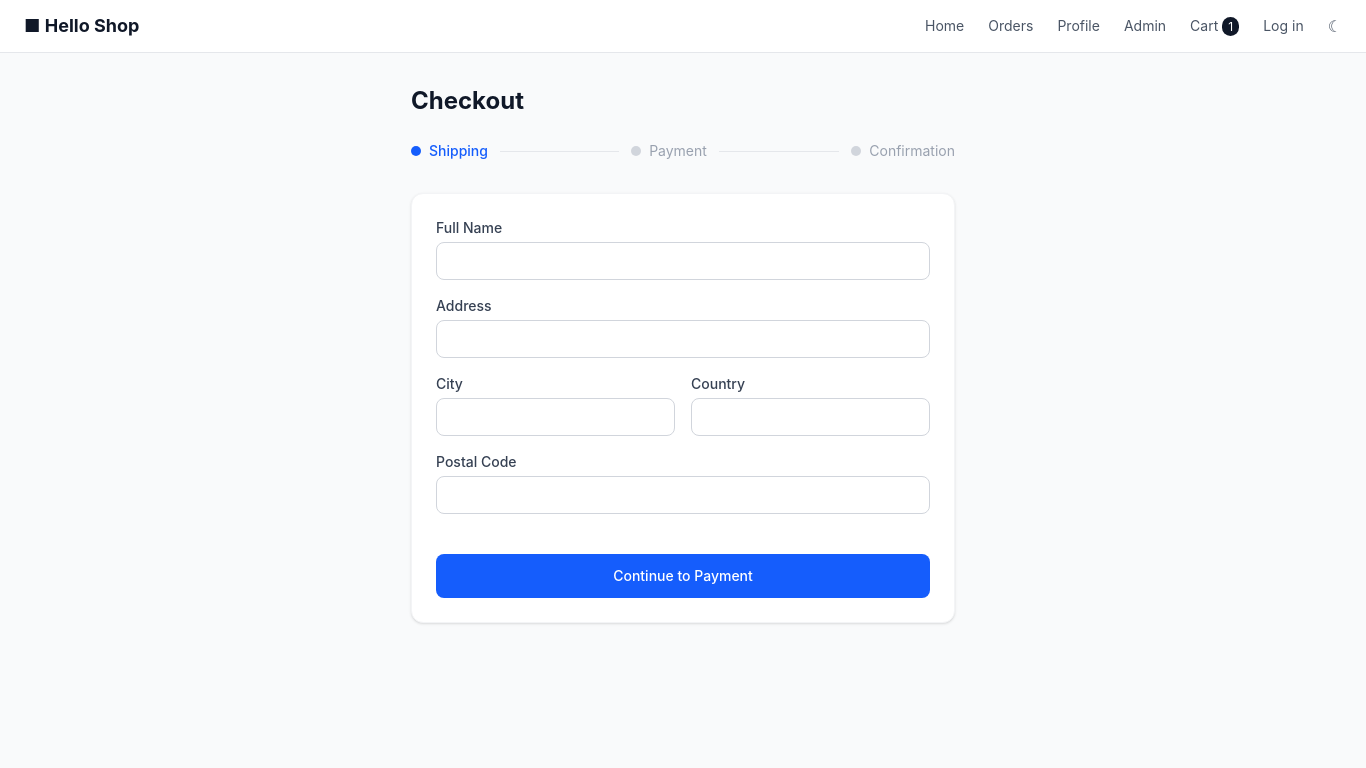
Test: Checkout flow › shows a postal code format error on blur
The width and height of the screenshot is (1366, 768).
expect the button "Continue to Payment" is shown: met, box left=436, top=554, right=930, bottom=598
Type "abc" into the field labelled "Postal Code" at coordinates (683, 495), box left=436, top=476, right=930, bottom=514
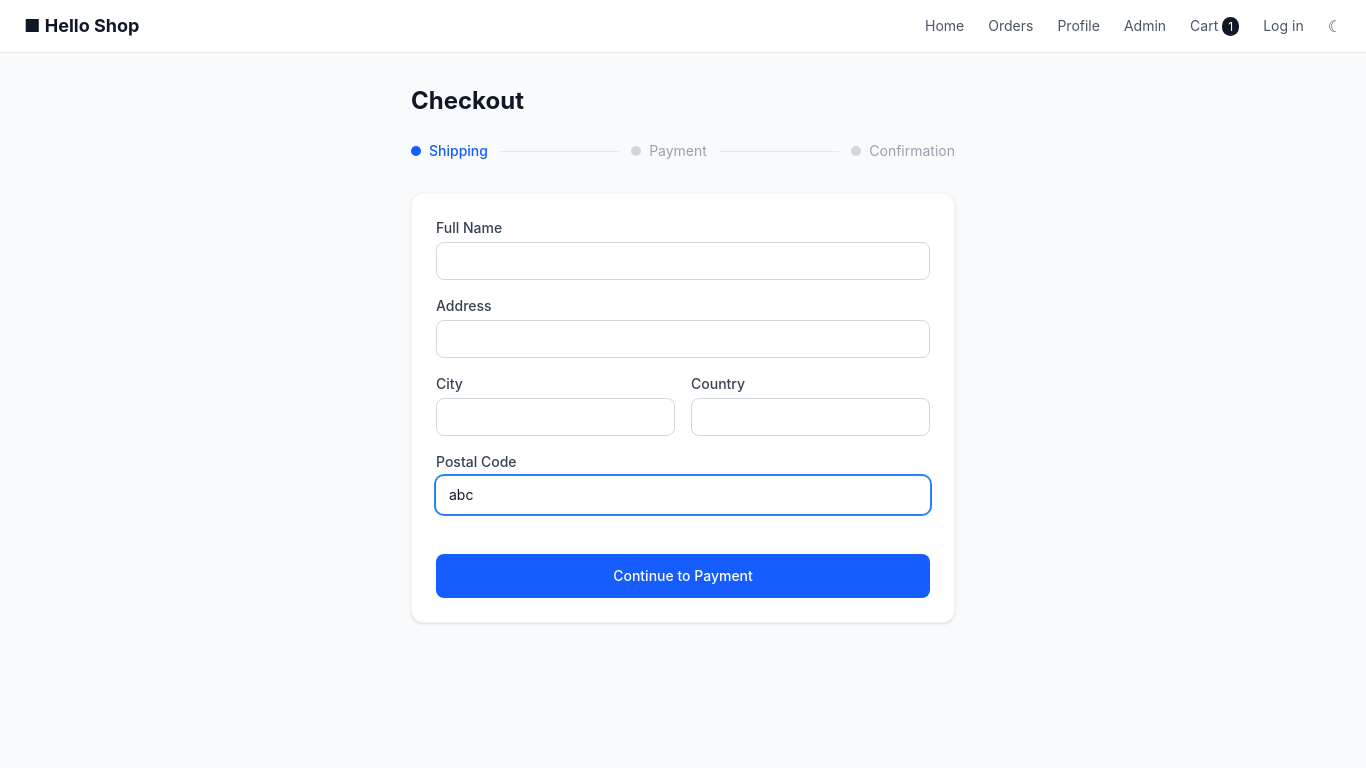
Press Tab
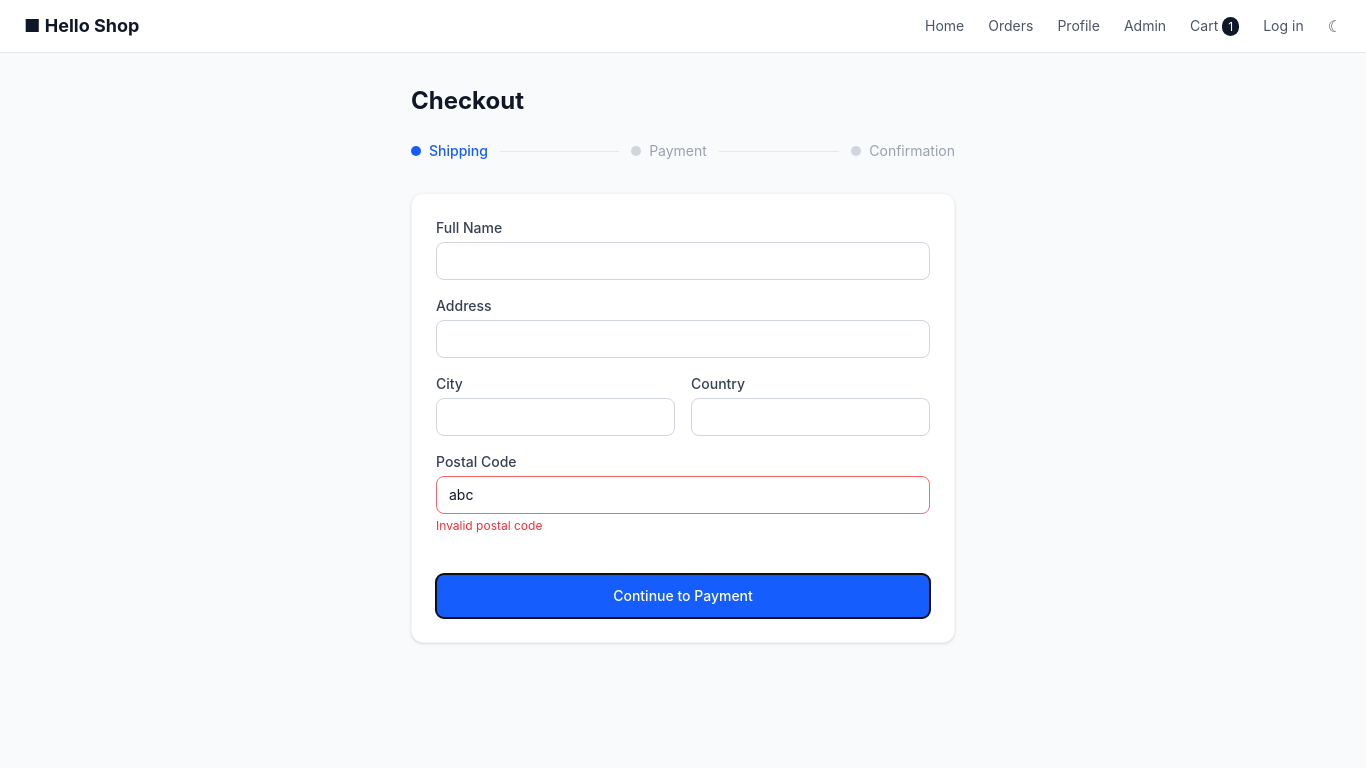
expect the text "Invalid postal code" is shown: met, box left=436, top=518, right=542, bottom=533
